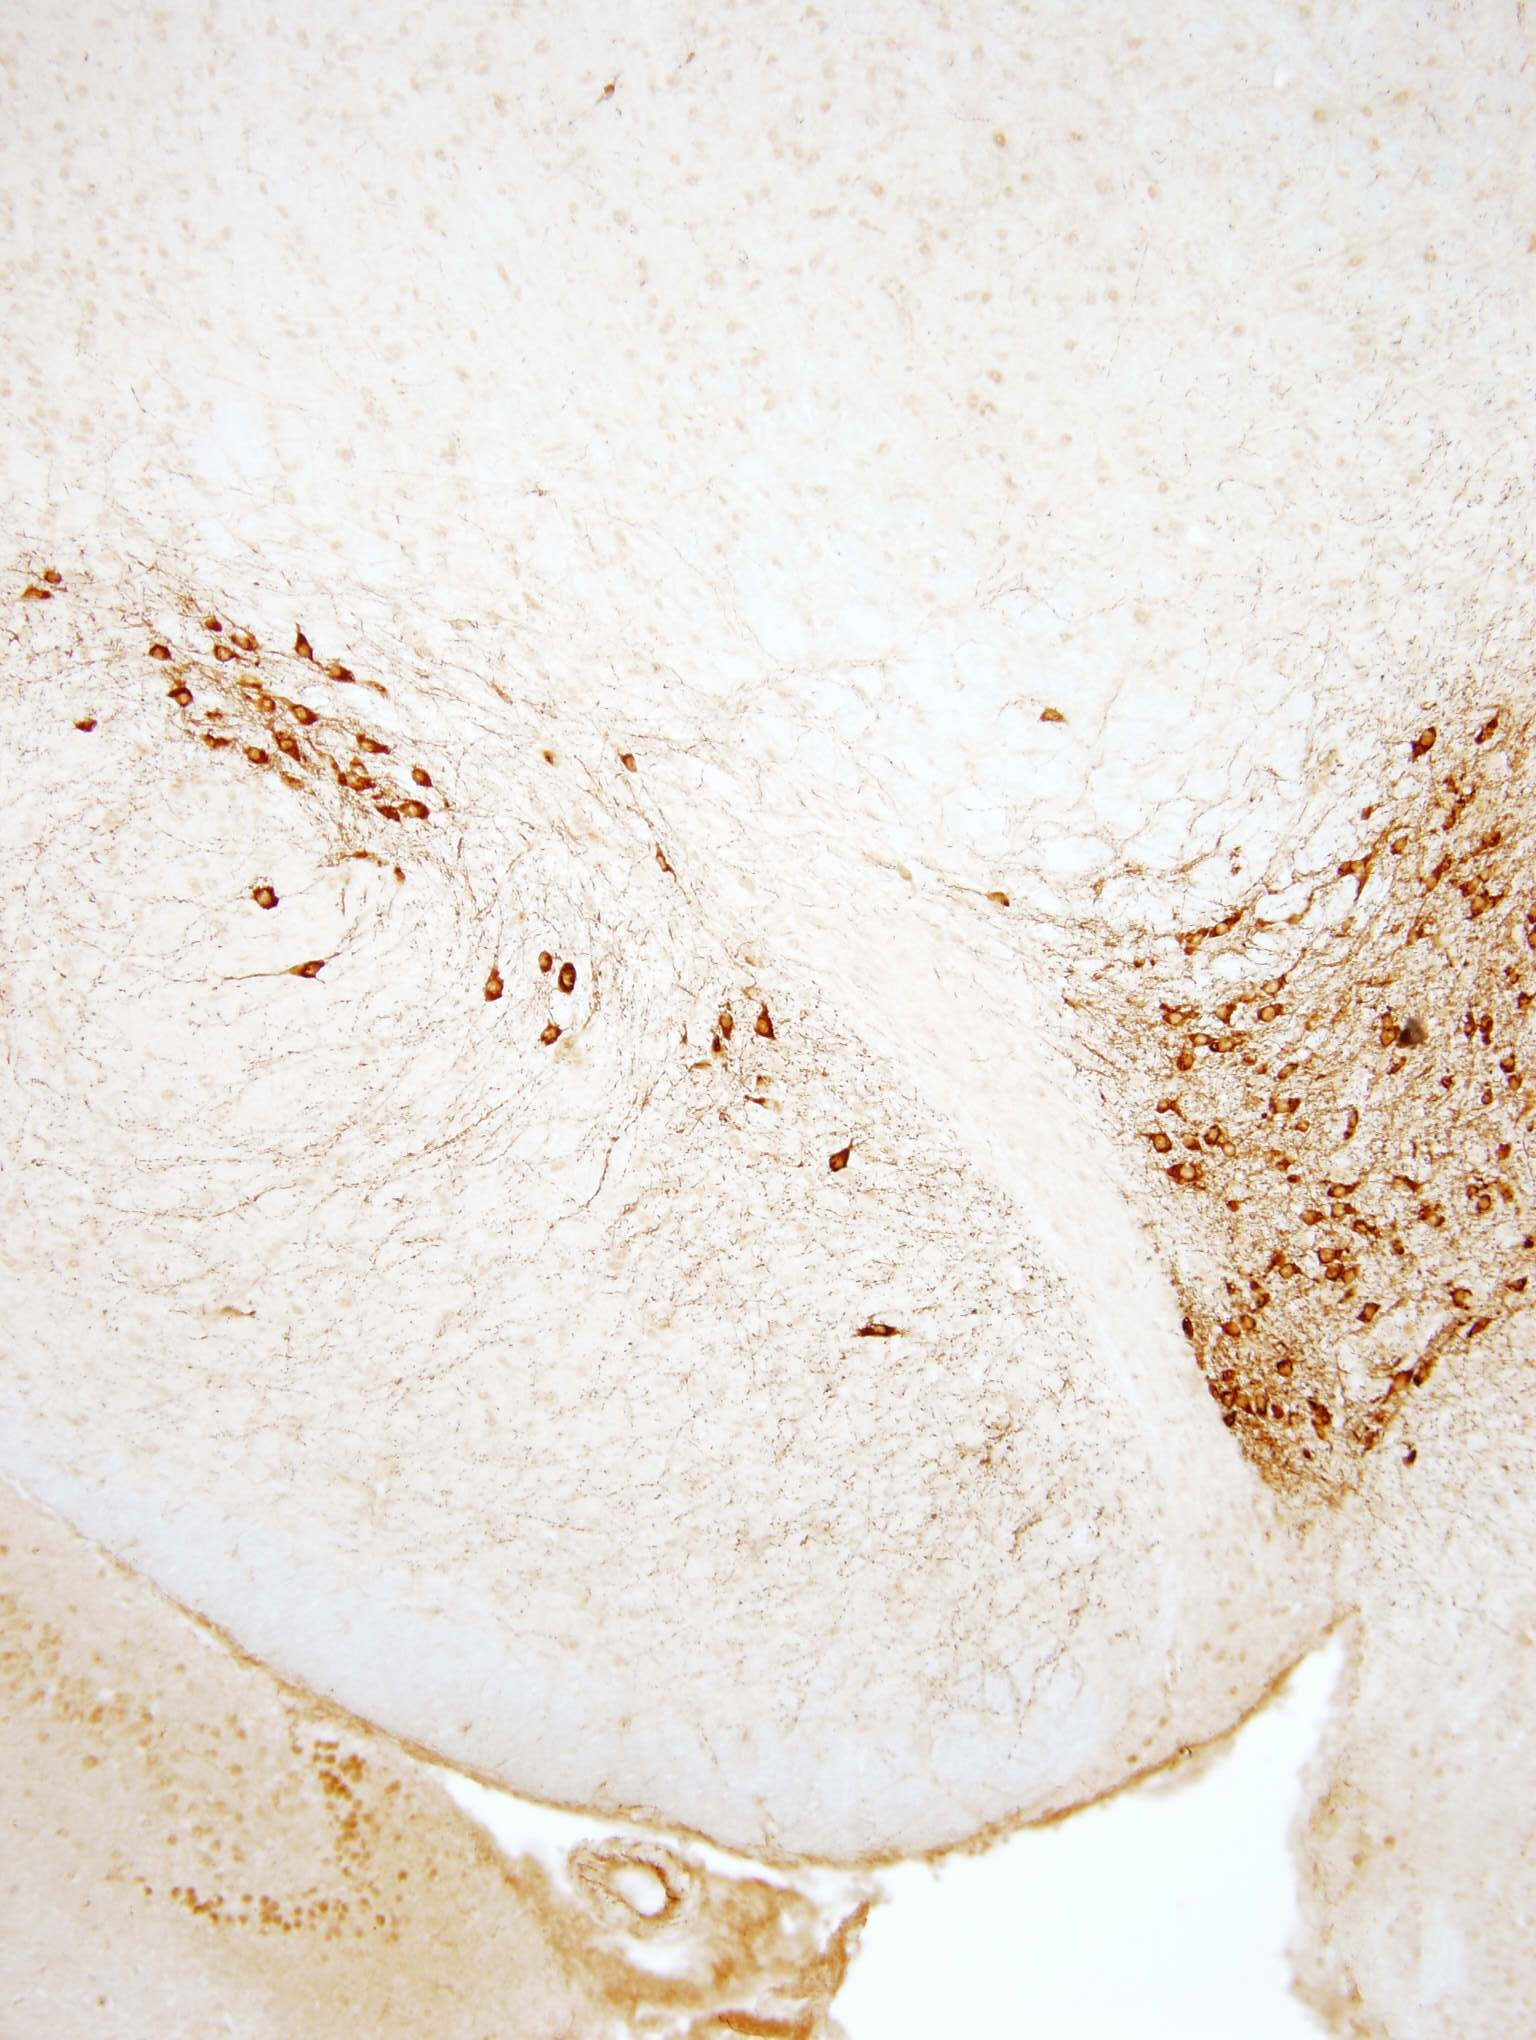neuron: (140, 627, 189, 676), (1158, 993, 1196, 1030), (1175, 1047, 1212, 1084), (1325, 1197, 1362, 1234), (1379, 1234, 1417, 1271), (1413, 726, 1450, 763), (1475, 1197, 1512, 1234), (244, 743, 281, 781), (357, 727, 394, 764), (407, 764, 444, 801), (828, 1143, 865, 1180), (1037, 702, 1073, 739), (1147, 1122, 1183, 1159), (1167, 1159, 1204, 1195), (1179, 1122, 1215, 1159), (1187, 1027, 1223, 1064), (1204, 1122, 1241, 1158), (1208, 914, 1244, 951), (1226, 1134, 1262, 1171), (1244, 1043, 1279, 1080), (1267, 1155, 1304, 1190), (1341, 1110, 1376, 1147), (1344, 851, 1379, 889), (1350, 1209, 1386, 1247), (1388, 832, 1425, 868), (1450, 868, 1488, 903), (1460, 1176, 1496, 1213), (1463, 885, 1499, 922), (1471, 1087, 1509, 1122), (1488, 1140, 1525, 1176), (1497, 1277, 1534, 1313), (165, 682, 202, 718), (198, 606, 234, 643), (240, 663, 278, 698), (252, 689, 287, 726), (295, 951, 331, 989), (478, 972, 515, 1008), (532, 1021, 570, 1056), (536, 951, 573, 987), (557, 960, 594, 995), (862, 1326, 899, 1361), (1150, 1093, 1186, 1129), (1173, 929, 1208, 964), (1208, 993, 1244, 1029), (1210, 1313, 1246, 1348), (1213, 1029, 1249, 1064), (1241, 1301, 1276, 1337), (1242, 1276, 1278, 1311), (1254, 1000, 1289, 1035), (1254, 969, 1289, 1005), (1284, 1053, 1320, 1089), (1292, 1114, 1328, 1150), (1297, 1203, 1333, 1239), (1305, 1398, 1341, 1434), (1323, 1171, 1359, 1206), (1341, 1264, 1376, 1300), (1354, 1301, 1389, 1337), (1370, 1021, 1405, 1056), (1384, 1368, 1420, 1403), (1386, 1171, 1421, 1206), (1413, 1358, 1449, 1393), (1415, 1206, 1450, 1242), (1418, 868, 1454, 903), (1447, 1279, 1483, 1314), (1478, 816, 1513, 851), (1489, 1043, 1525, 1079), (18, 585, 53, 621), (198, 726, 234, 761), (213, 635, 248, 671), (237, 626, 273, 661), (252, 882, 287, 918), (276, 732, 311, 768), (290, 692, 326, 727), (292, 634, 328, 669), (324, 653, 360, 689), (339, 771, 374, 806), (402, 795, 437, 831), (616, 748, 652, 784), (710, 1014, 745, 1050), (753, 1013, 789, 1048), (986, 884, 1021, 919), (1221, 1369, 1246, 1393), (1234, 1397, 1258, 1421), (1276, 1358, 1300, 1382), (1363, 1430, 1388, 1455), (44, 566, 68, 590), (1220, 1392, 1244, 1414), (1254, 1397, 1276, 1421)
